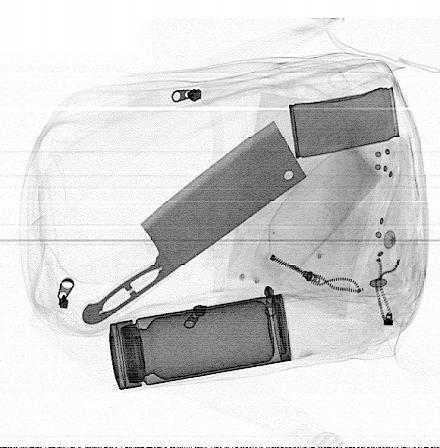Knife: (82, 120, 308, 325)
